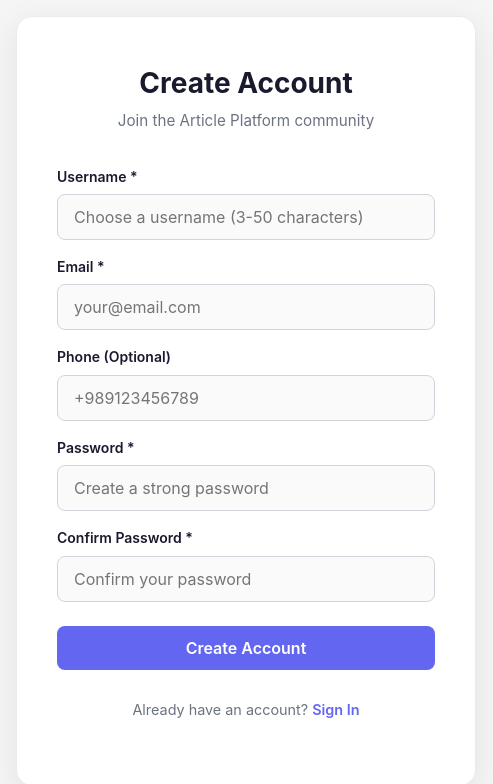
Test: RegisterPage › Form Submission › should show error on registration failure
Type "existinguser" into the field labelled "Username *". click: coordinates (246, 217)
box: [57,194,435,240]
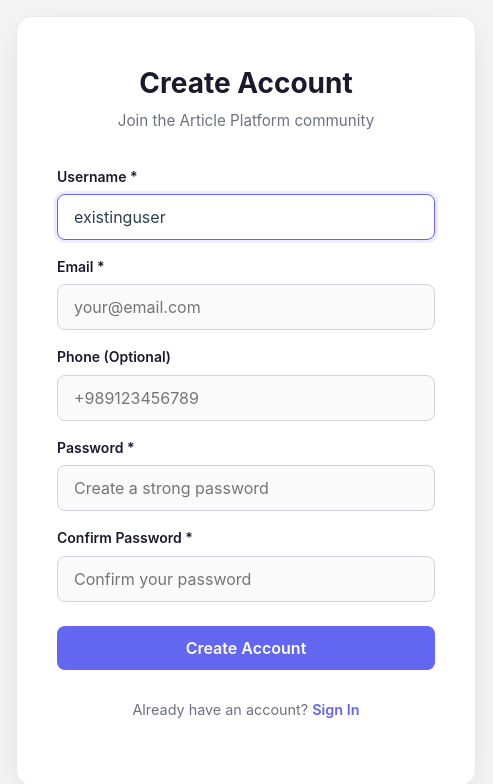
Type "new@example.com" into the field labelled "Email *". click: coordinates (246, 308)
box: [57,284,435,330]
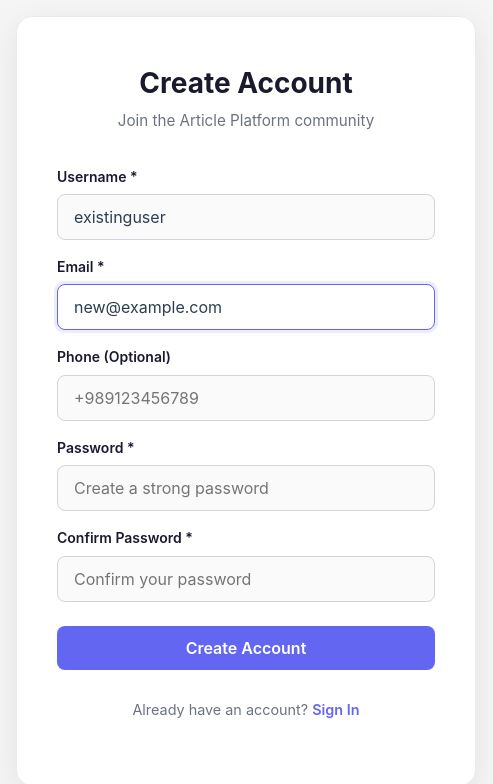
Type "SecurePass123" into the password field labelled "Password *". click: coordinates (246, 488)
box: [57,465,435,511]
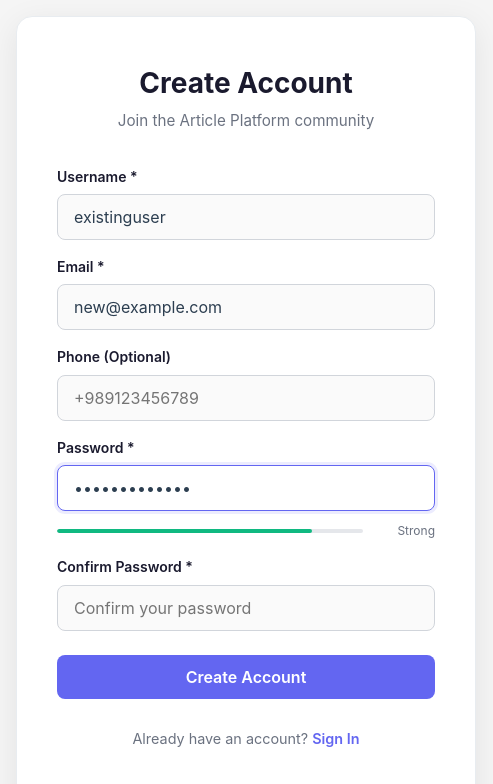
Type "SecurePass123" into the password field labelled "Confirm Password *". click: coordinates (246, 608)
box: [57,585,435,631]
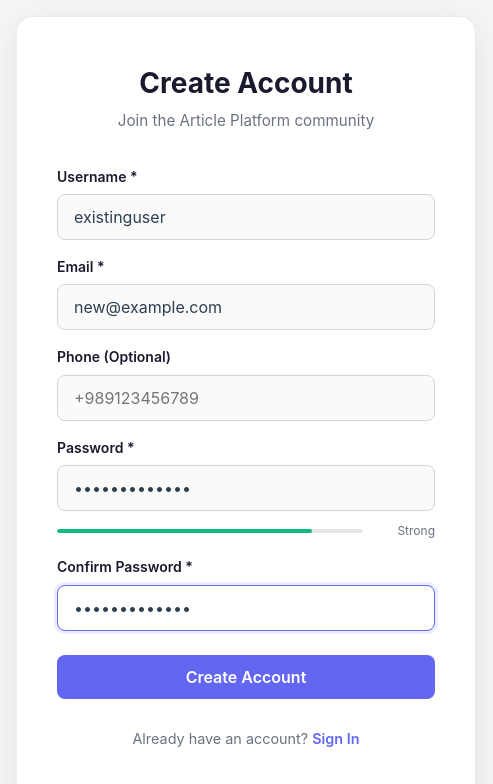
Click the button "Create Account". click: coordinates (246, 677)
box: [57,655,435,699]
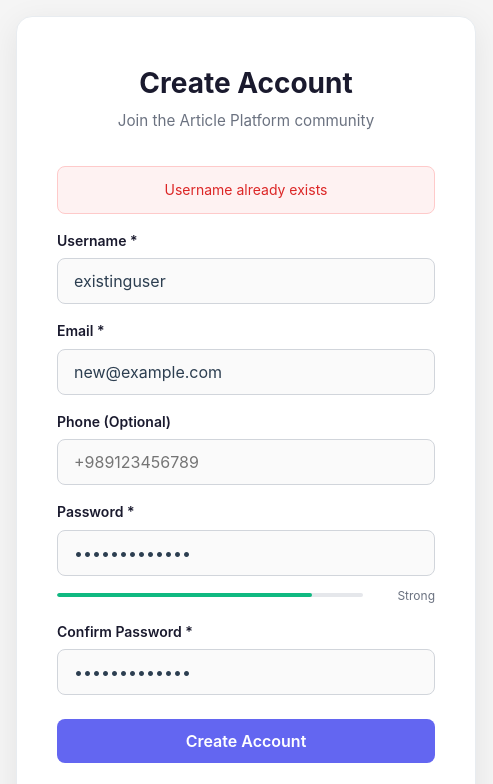
Check: the text "Username already exists" is shown, box [57,166,435,214]
